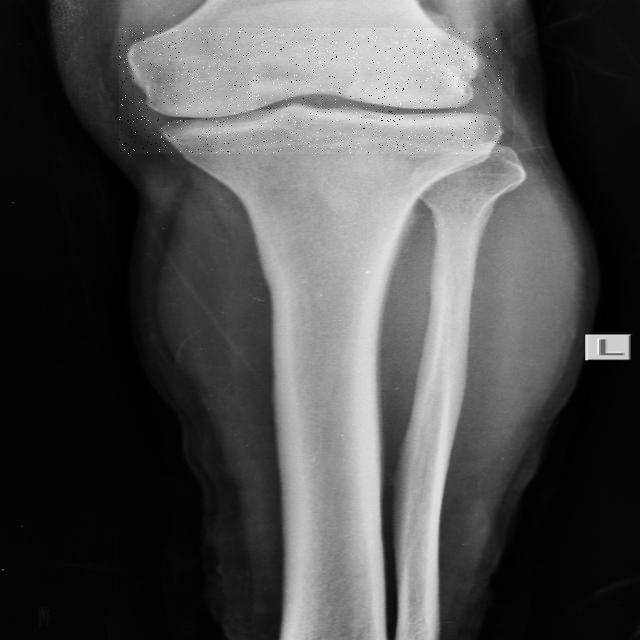normal: (119, 28, 502, 154)
